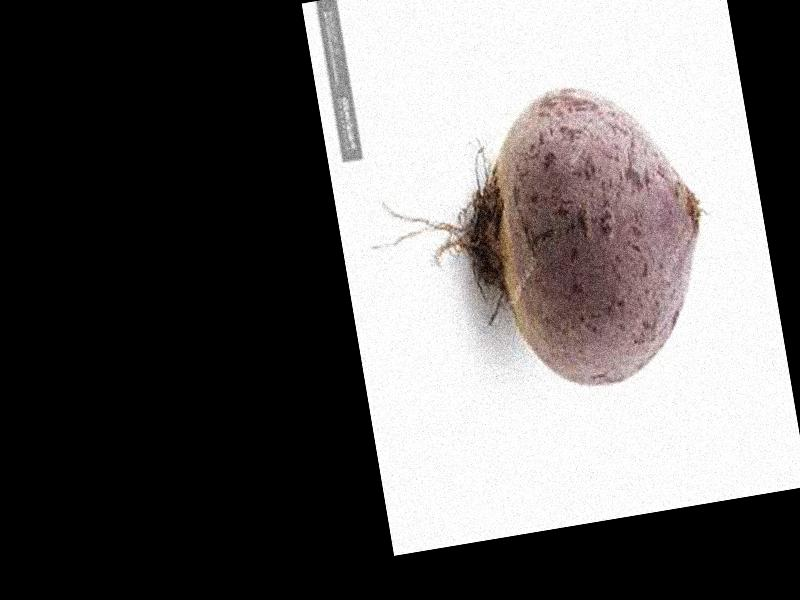Beet: (349, 66, 729, 420)
